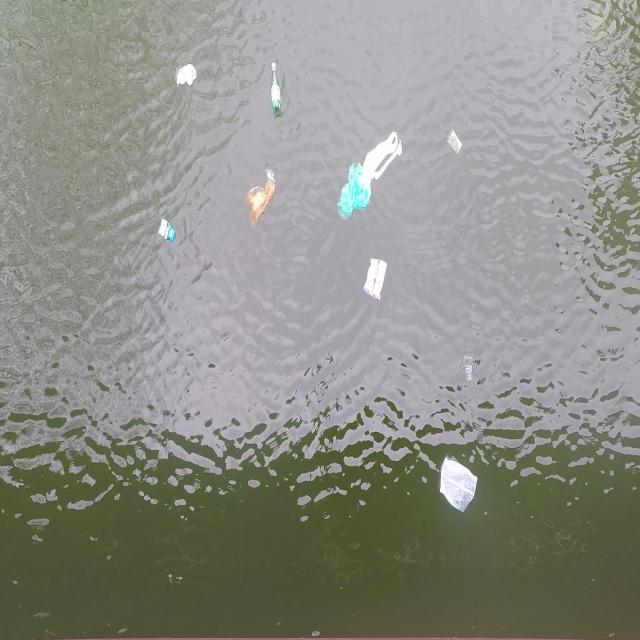Autre plastique: (156, 217, 177, 246), (447, 125, 462, 160), (463, 352, 475, 387)
Bouteille plastique: (269, 60, 282, 119)
Sac plastique: (335, 126, 402, 224), (248, 168, 279, 228)
